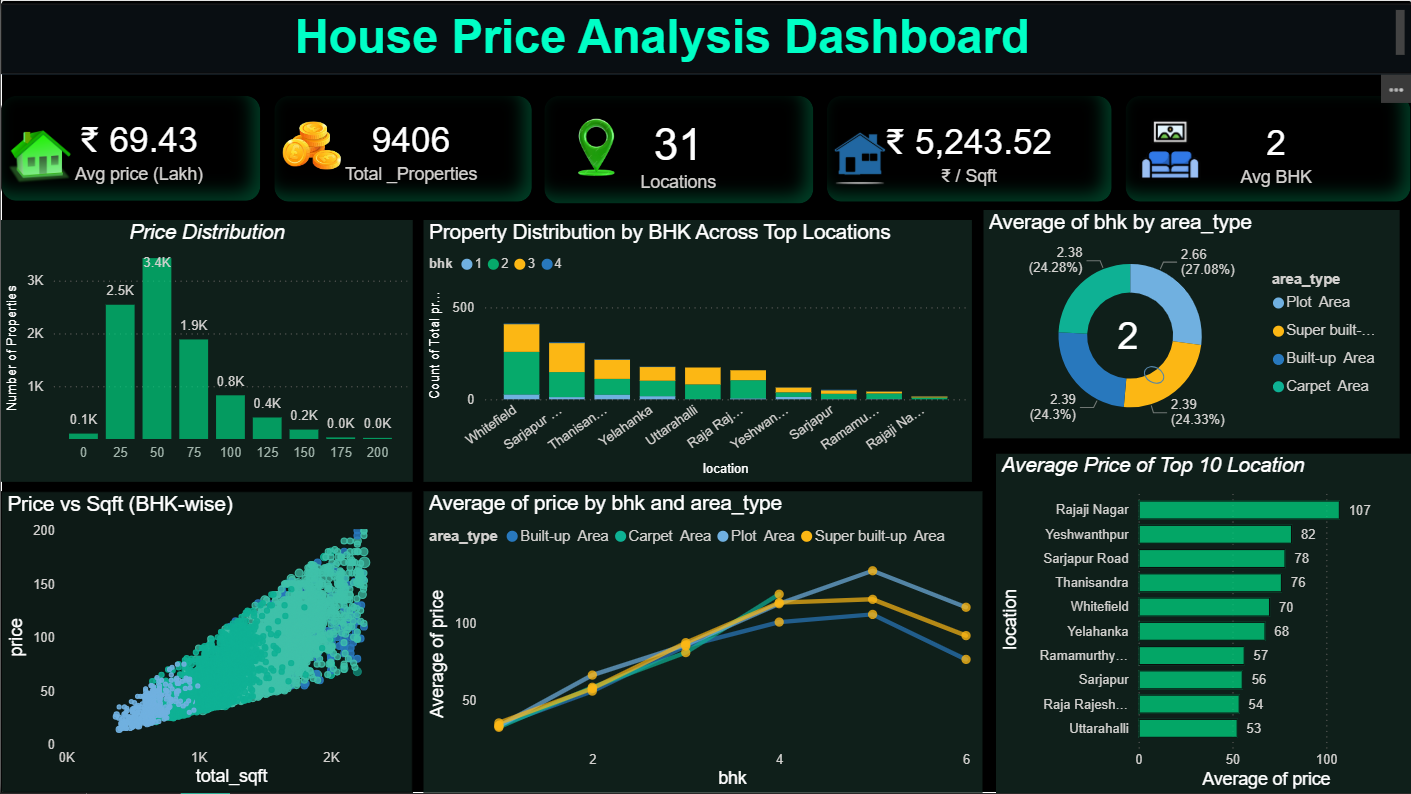

This screenshot's page, from the dashboard's own definition file:
{"tool":"powerbi","page":{"name":"Page 1","canvas":[1280,720],"ordinal":0},"visuals":[{"type":"card","title":"LAKH","fields":{"Values":["Avg(Sheet1.Avg price)"]},"box":[0.2,85.9,235.7,97.1],"z":0},{"type":"card","title":"BHK","fields":{"Values":["Avg(Sheet1.Avg BHK)"]},"box":[1020.2,85.9,260,97.5],"z":1000},{"type":"textbox","box":[0,3,1280,64],"z":2000},{"type":"image","box":[0,113.3,70,58.3],"z":3000},{"type":"textbox","box":[0,3.3,1280,63.3],"z":4000},{"type":"card","title":"TOTAL HOUSE","fields":{"Values":["CountNonNull(Sheet1.Total property)"]},"box":[246.9,85.9,235,97.5],"z":5000},{"type":"card","title":"COUNT","fields":{"Values":["Count(Sheet1.location)"]},"box":[491.9,86,245.3,98.8],"z":6000},{"type":"card","title":"RUPEES","fields":{"Values":["Avg(Sheet1.Avg price per sqft)"]},"box":[749.1,85.9,260,97.5],"z":7000},{"type":"image","box":[748.3,111.7,61.7,65],"z":8000},{"type":"image","box":[500,80.2,82.6,110.5],"z":9000},{"type":"image","box":[1032.6,108.1,58.1,55.8],"z":10000},{"type":"image","box":[226.7,100,111.6,67.4],"z":11000},{"type":"scatterChart","title":"Price vs Sqft (BHK-wise)","fields":{"X":["Sheet1.total_sqft"],"Y":["Sheet1.price"],"Size":["Sum(Sheet1.bhk)"],"Series":["Sheet1.bhk"]},"box":[0,446.2,373.8,273.8],"z":12000},{"type":"clusteredBarChart","title":"Average Price of Top 10 Location","fields":{"Y":["Avg(Sheet1.price)"],"Category":["Sheet1.location"]},"box":[902.5,411.2,377.5,308.8],"z":13000},{"type":"donutChart","fields":{"Category":["Sheet1.area_type"],"Y":["Avg(Sheet1.bhk)"]},"box":[891.2,190,377.5,207.5],"z":14000},{"type":"clusteredColumnChart","title":"Price Distribution","fields":{"Category":["Sheet1.price (bins)"],"Y":["CountNonNull(Sheet1.price)"]},"box":[0,200,373.8,237.5],"z":15000},{"type":"columnChart","title":"Property Distribution by BHK Across Top Locations","fields":{"Category":["Sheet1.location"],"Series":["Sheet1.bhk"],"Y":["CountNonNull(Sheet1.Total property)"]},"box":[383.8,200,497.5,237.5],"z":16000},{"type":"lineChart","fields":{"Category":["Sheet1.bhk"],"Y":["Avg(Sheet1.price)"],"Series":["Sheet1.area_type"]},"box":[383.8,446.2,507.5,273.8],"z":17000},{"type":"shape","title":"2","box":[1012.9,285.8,66.9,65.8],"z":18000}]}

Visuals, with their boxes in screenshot pixels (x1, y1, x2, y2), scaled from the page's 1280x720 canvas onto the 1411x794 screenshot:
"LAKH" card: [left=0, top=95, right=260, bottom=202]
"BHK" card: [left=1125, top=95, right=1410, bottom=202]
textbox: [left=0, top=3, right=1410, bottom=74]
image: [left=0, top=125, right=77, bottom=189]
textbox: [left=0, top=4, right=1410, bottom=73]
"TOTAL HOUSE" card: [left=272, top=95, right=531, bottom=202]
"COUNT" card: [left=542, top=95, right=813, bottom=204]
"RUPEES" card: [left=826, top=95, right=1112, bottom=202]
image: [left=825, top=123, right=893, bottom=195]
image: [left=551, top=88, right=642, bottom=210]
image: [left=1138, top=119, right=1202, bottom=181]
image: [left=250, top=110, right=373, bottom=185]
"Price vs Sqft (BHK-wise)" scatterChart: [left=0, top=492, right=412, bottom=793]
"Average Price of Top 10 Location" clusteredBarChart: [left=995, top=453, right=1410, bottom=793]
donutChart - Sheet1.area_type x Avg(Sheet1.bhk): [left=982, top=210, right=1399, bottom=438]
"Price Distribution" clusteredColumnChart: [left=0, top=221, right=412, bottom=482]
"Property Distribution by BHK Across Top Locations" columnChart: [left=423, top=221, right=971, bottom=482]
lineChart - Sheet1.bhk x Avg(Sheet1.price): [left=423, top=492, right=983, bottom=793]
"2" shape: [left=1117, top=315, right=1190, bottom=388]
